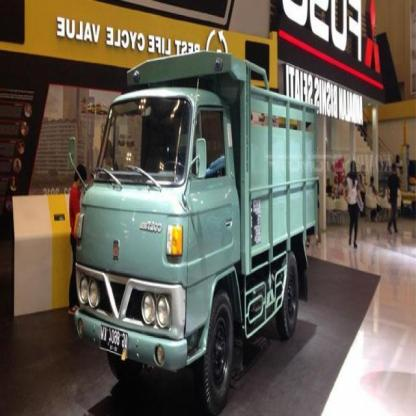truck: (69, 54, 319, 408)
